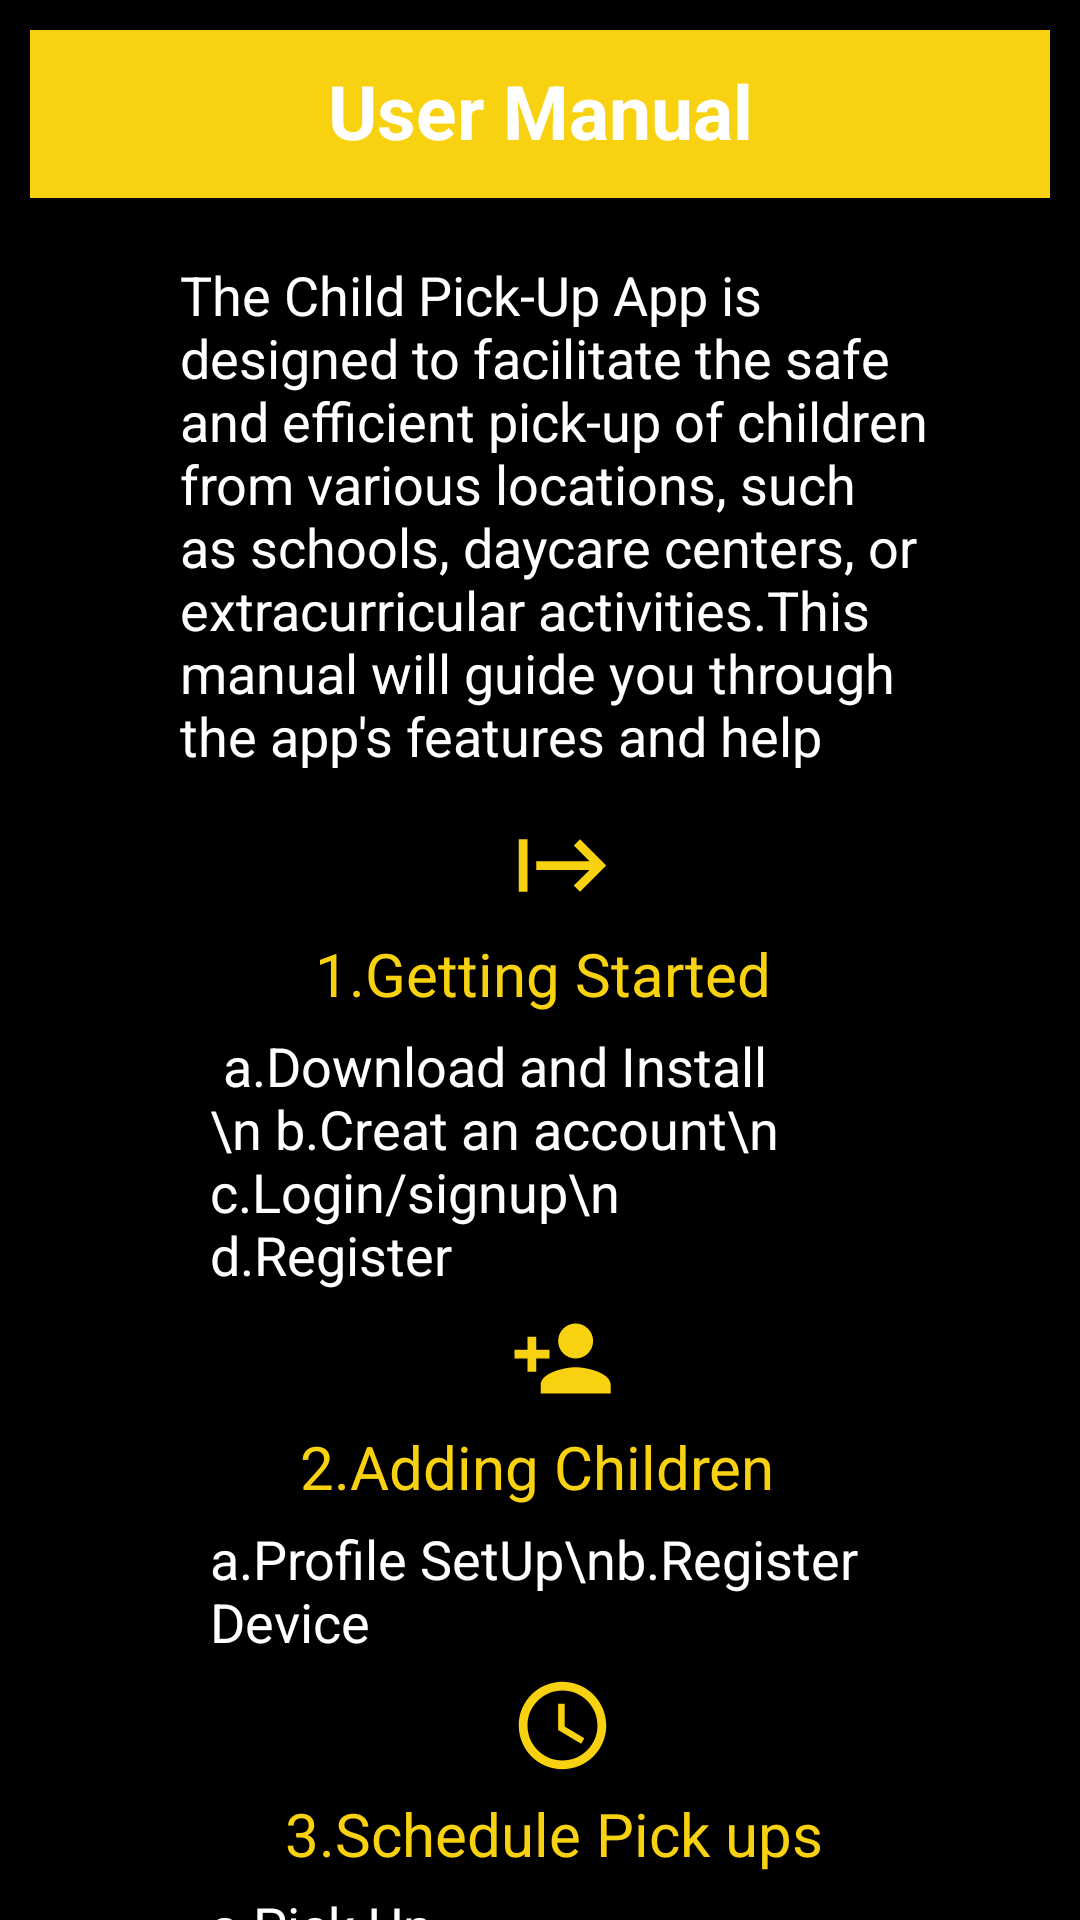

Screen size 1080 x 1920. Icon name, then its box in pixels as bbox(x1, y1, x2, y2):
person add: bbox(514, 1323, 611, 1394)
